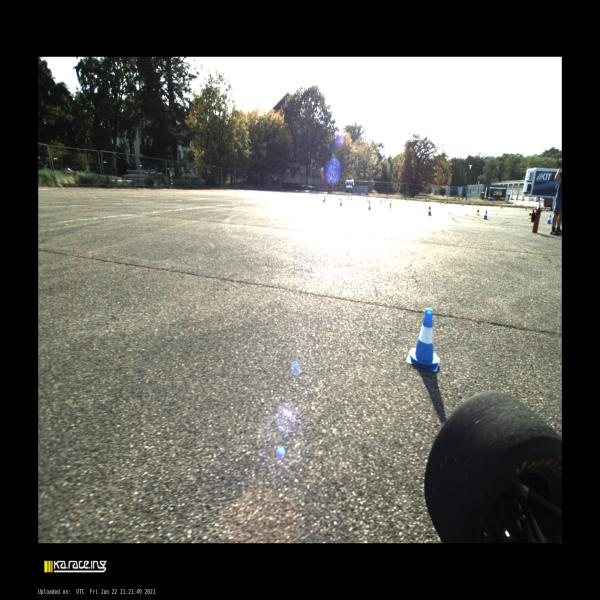blue_cone: (406, 308, 440, 371), (546, 215, 552, 224), (483, 210, 488, 220), (428, 207, 432, 215), (368, 203, 371, 210), (340, 199, 342, 206), (323, 196, 325, 202), (500, 205, 502, 209), (423, 200, 425, 203), (462, 203, 463, 206), (440, 201, 441, 204)
yellow_cone: (476, 208, 480, 215), (528, 211, 531, 218), (390, 203, 392, 208), (525, 206, 527, 211), (420, 200, 422, 203), (472, 203, 473, 208), (445, 202, 446, 205)
